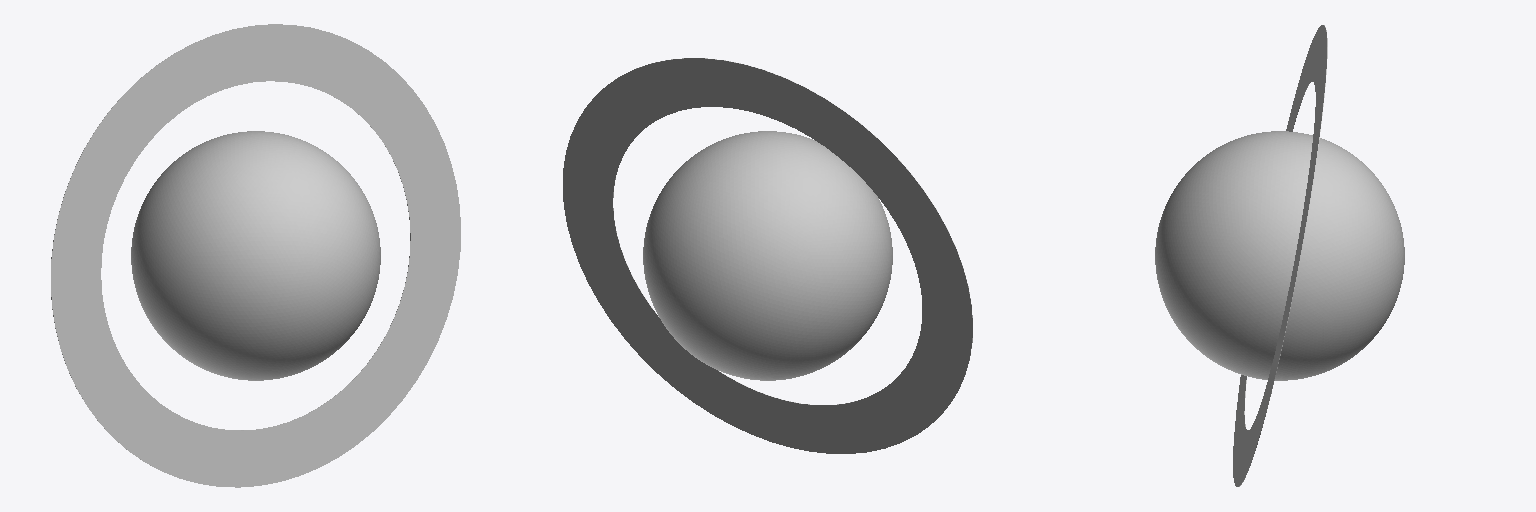
Rendered from Urano.obj.
The picture shows the model from 3 angles: view 1: azimuth 30°, elevation 25°; view 2: azimuth 150°, elevation 25°; view 3: azimuth 270°, elevation 25°; orthographic projection.
Visible parts, largest first — view 1: Uranus; view 2: Uranus; view 3: Uranus.
Part boxes in pixels (x1,y1,x2,y2): Uranus: (51, 24, 460, 487); Uranus: (563, 58, 972, 453); Uranus: (1155, 25, 1404, 486).
Size of the model in its own units: 14.89 by 14.59 by 7.89.